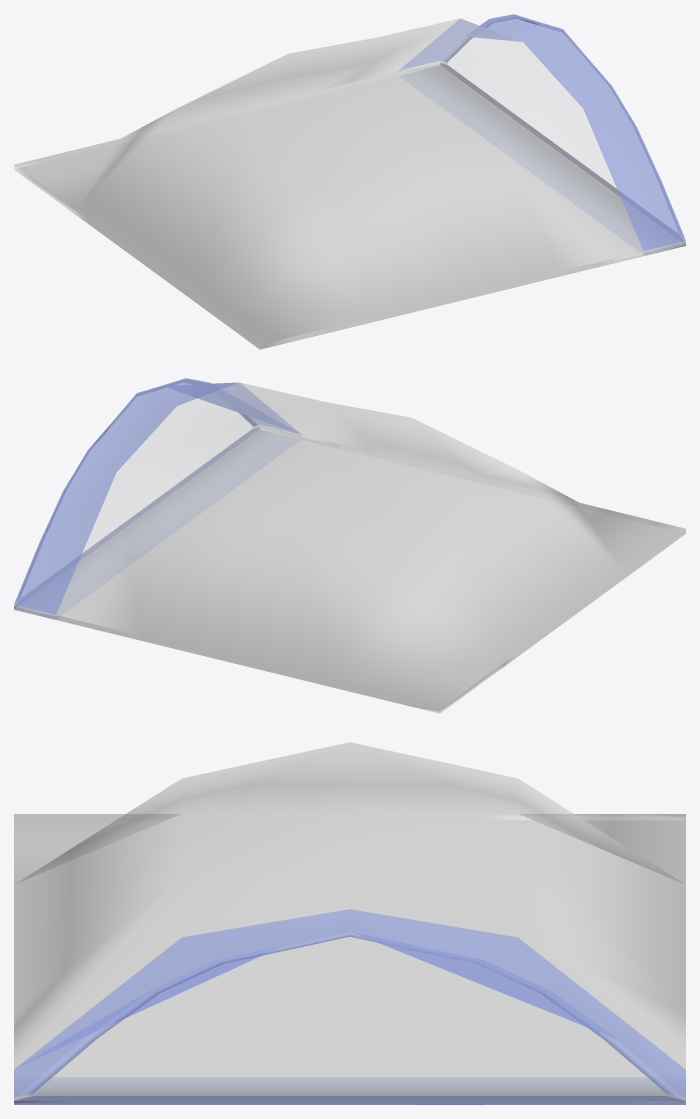
Rendered from oper Zipper bag.fbx.
3 renders of one model, top to bottom at view 1: azimuth 30°, elevation 25°; view 2: azimuth 150°, elevation 25°; view 3: azimuth 270°, elevation 25°, orthographic. The views are drawn at different scales.
Visible parts, largest first — view 1: pPlane5; view 2: pPlane5; view 3: pPlane5.
Boxes of the visible parts, <box> form: pPlane5: <box>14,14,685,349</box>; pPlane5: <box>14,378,685,713</box>; pPlane5: <box>14,742,685,1104</box>.
Size of the model in its own units: 3.78 by 1.08 by 3.78.
